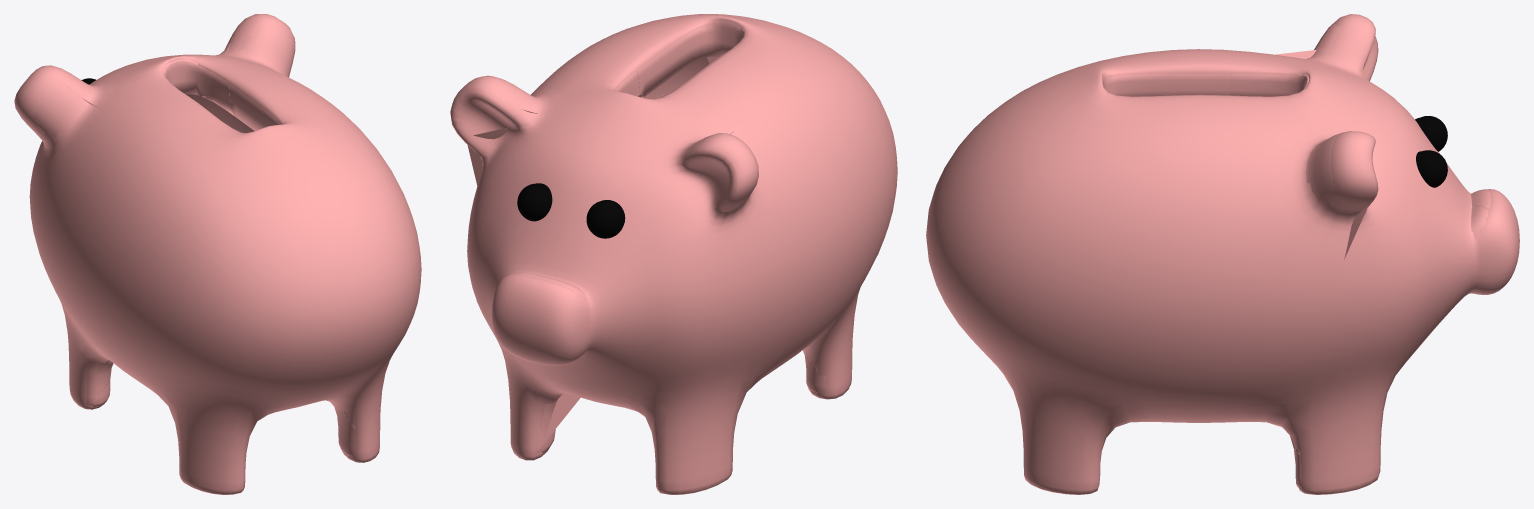
Rendered from M_Pigbank_Edited1.fbx.
3 views of the same model, side by side, from view 1: azimuth 30°, elevation 25°; view 2: azimuth 150°, elevation 25°; view 3: azimuth 270°, elevation 25° (orthographic). The views are drawn at different scales.
Parts seen in each view (by area): view 1: PigbankRevised, 1PigbankRevised_cell.008, 1PigbankRevised_cell.026, 1PigbankRevised_cell.014, 1PigbankRevised_cell.002, 1PigbankRevised_cell.005, 1PigbankRevised_cell.001, 1PigbankRevised_cell.004; view 2: PigbankRevised, 1PigbankRevised_cell.002, 1PigbankRevised_cell.021, 1PigbankRevised_cell.018, 1PigbankRevised_cell.011; view 3: PigbankRevised, 1PigbankRevised_cell.002, 1PigbankRevised_cell.008, 1PigbankRevised_cell.014.
Part boxes in pixels (<box>): PigbankRevised: <box>14,14,421,494</box>; 1PigbankRevised_cell.008: <box>59,59,230,112</box>; 1PigbankRevised_cell.026: <box>33,80,88,137</box>; 1PigbankRevised_cell.014: <box>225,27,294,77</box>; 1PigbankRevised_cell.002: <box>229,84,280,130</box>; 1PigbankRevised_cell.005: <box>86,360,113,405</box>; 1PigbankRevised_cell.001: <box>194,95,254,132</box>; 1PigbankRevised_cell.004: <box>334,407,355,457</box>; PigbankRevised: <box>450,14,897,494</box>; 1PigbankRevised_cell.002: <box>637,20,743,96</box>; 1PigbankRevised_cell.021: <box>536,393,580,452</box>; 1PigbankRevised_cell.018: <box>653,57,709,99</box>; 1PigbankRevised_cell.011: <box>803,352,825,393</box>; PigbankRevised: <box>926,14,1519,494</box>; 1PigbankRevised_cell.002: <box>1102,74,1231,96</box>; 1PigbankRevised_cell.008: <box>1229,24,1340,96</box>; 1PigbankRevised_cell.014: <box>1306,133,1340,200</box>.
Bounding box in the file's own units: 0.6544 × 0.7162 × 1.04.
